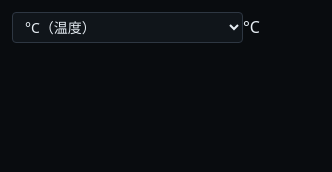
Test case: UnitSelect › 「その他」で 1 文字ずつ入力して、途中で候補と一致しても（L → L/h）、入力欄が消えない
The image size is (332, 172).
Later steps or results of the test are not shown.
Select "その他（自由入力）" in the dropdown named "単位" at (128, 28), box [12,12,243,43]
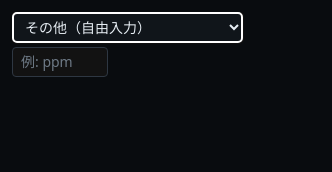
Type "L" into the field named "単位（自由入力）".
click(60, 62); type("L")  # box [12,47,108,77]
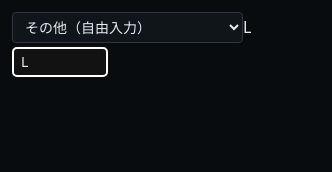
Type "/h" into the field named "単位（自由入力）".
click(60, 62); type("/h")  # box [12,47,108,77]
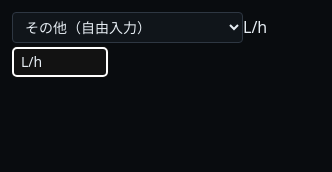
Check: the field named "単位（自由入力）" holds "L/h", box [12,47,108,77]
Check: the text with test id "value" reads "L/h", box [243,16,267,38]
